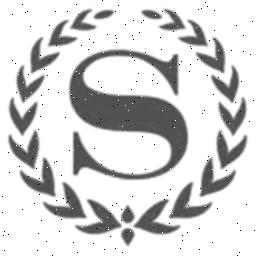s: (64, 44, 192, 188)
